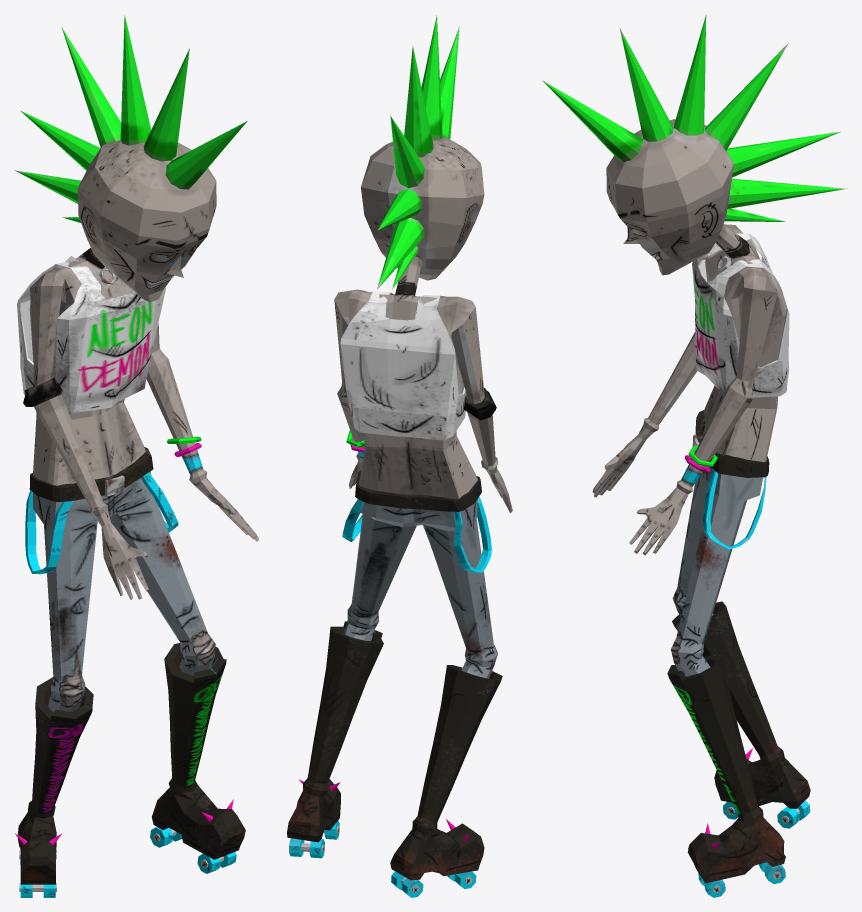
The model's file is punkAnimation_000041.obj.
The picture shows the model from 3 angles, left to right: view 1: azimuth 30°, elevation 25°; view 2: azimuth 150°, elevation 25°; view 3: azimuth 270°, elevation 25°; orthographic projection. The views are drawn at different scales.
Parts seen in each view (by area): view 1: Cube.004_Cube.003; view 2: Cube.004_Cube.003; view 3: Cube.004_Cube.003.
Boxes of the visible parts, x1,y1,x2,y2 form: Cube.004_Cube.003: (14,15,258,897); Cube.004_Cube.003: (287,15,512,897); Cube.004_Cube.003: (542,14,846,897).
Bounding box in the file's own units: 1.84 × 7.33 × 2.44.
